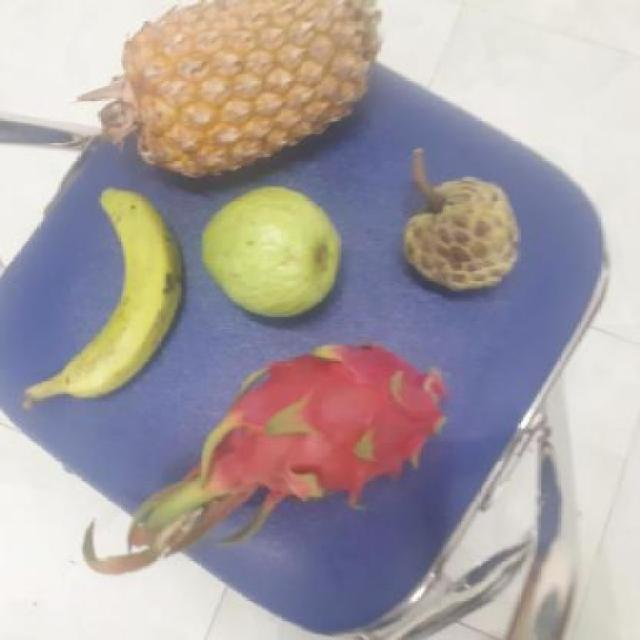banana: (51, 187, 188, 404)
dragon fruit: (205, 340, 459, 512)
guava: (202, 189, 351, 318)
pineapple: (125, 0, 380, 171)
sugar apple: (405, 174, 525, 292)
